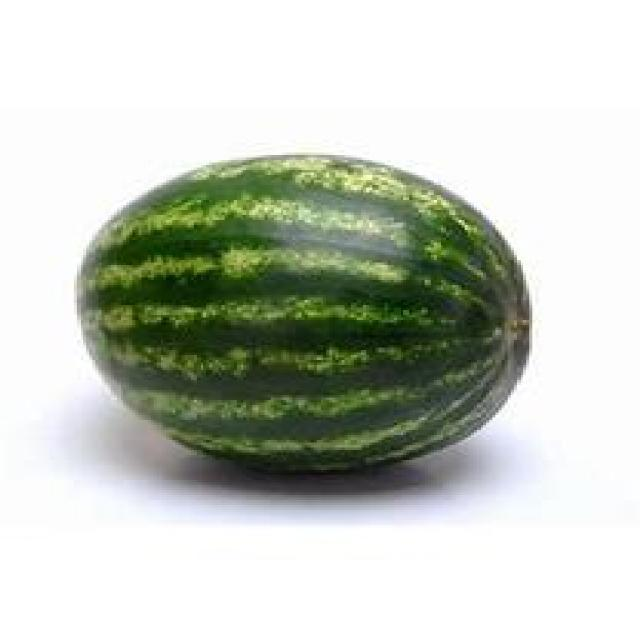watermelon: (77, 153, 531, 474)
